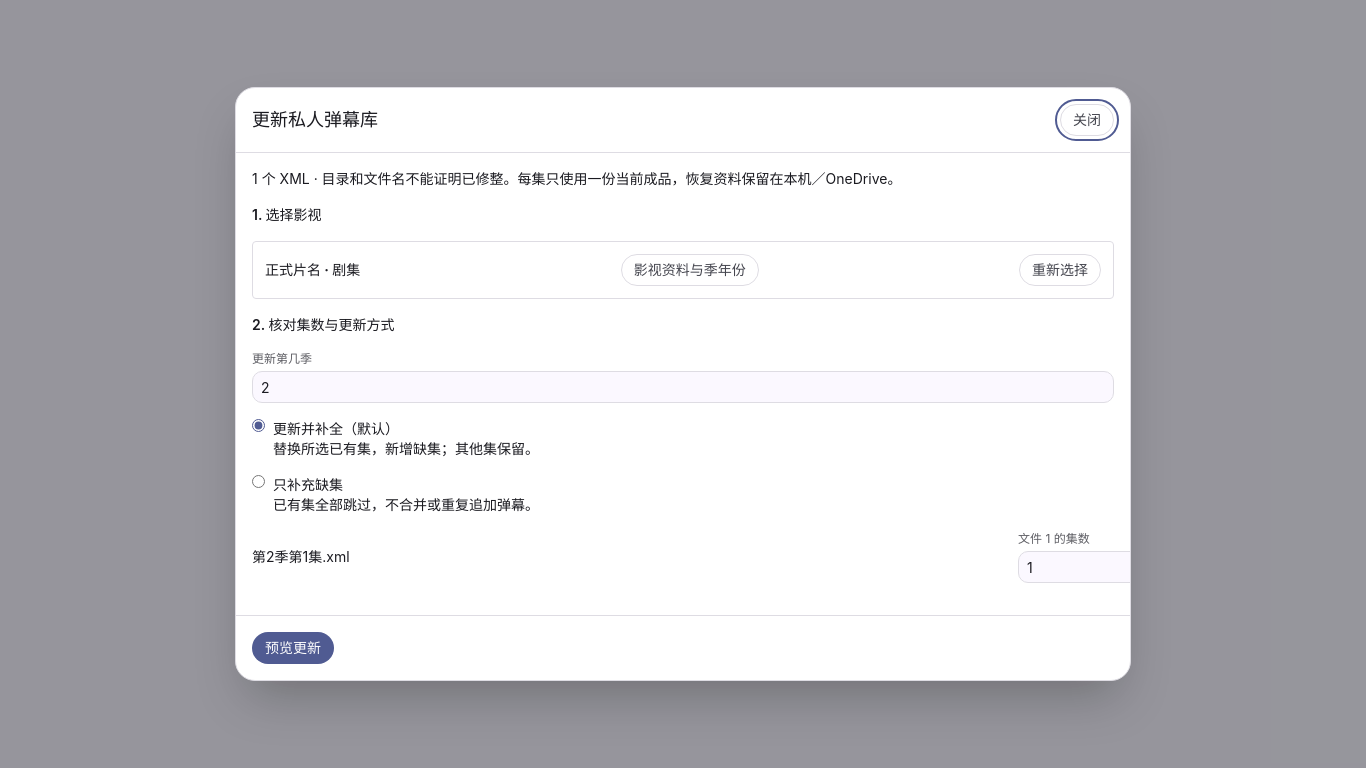
only-add mode does not overwrite or approve an existing unchecked episode
Expected: the button "预览更新" is enabled, [252,632,334,664]
Click the radio button labelled "只补充缺集" at (258, 482), box [252,475,265,488]
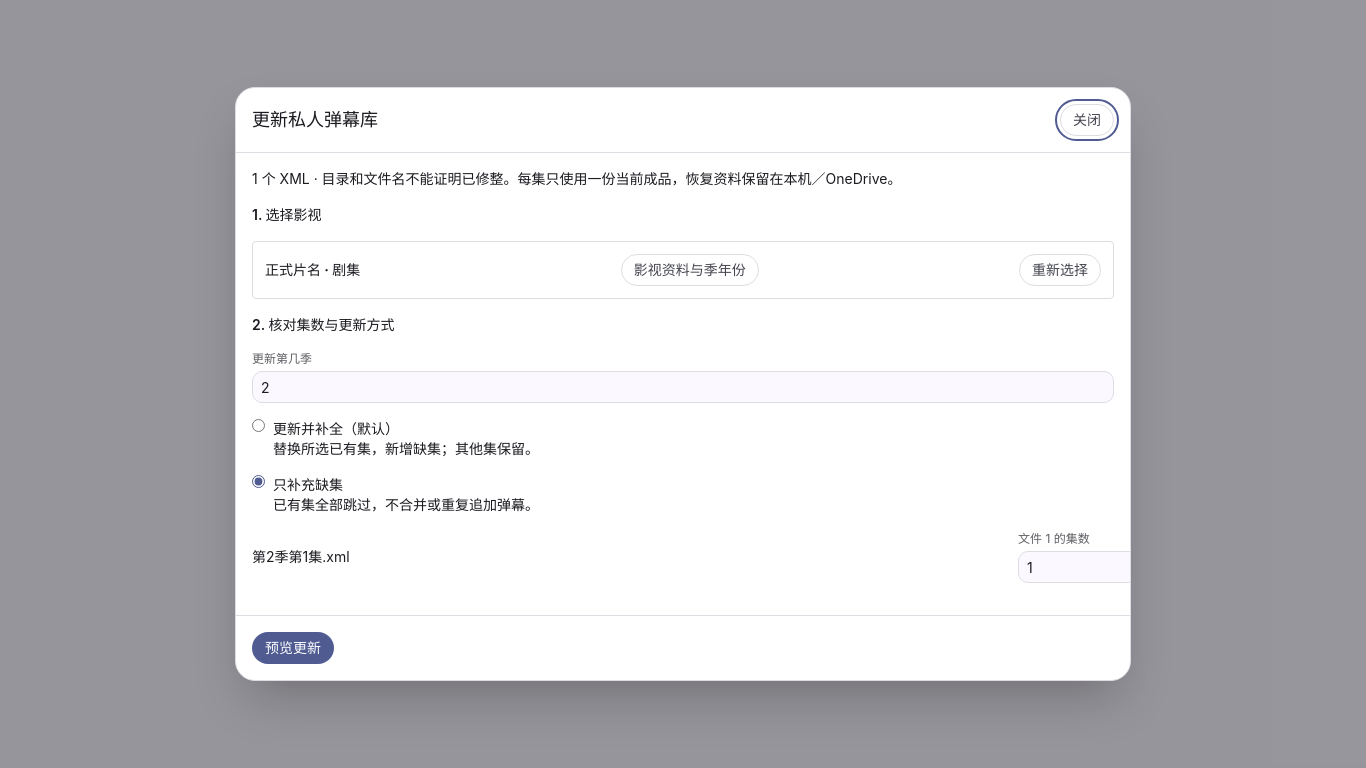
Click the button "预览更新" at (293, 648), box [252,632,334,664]
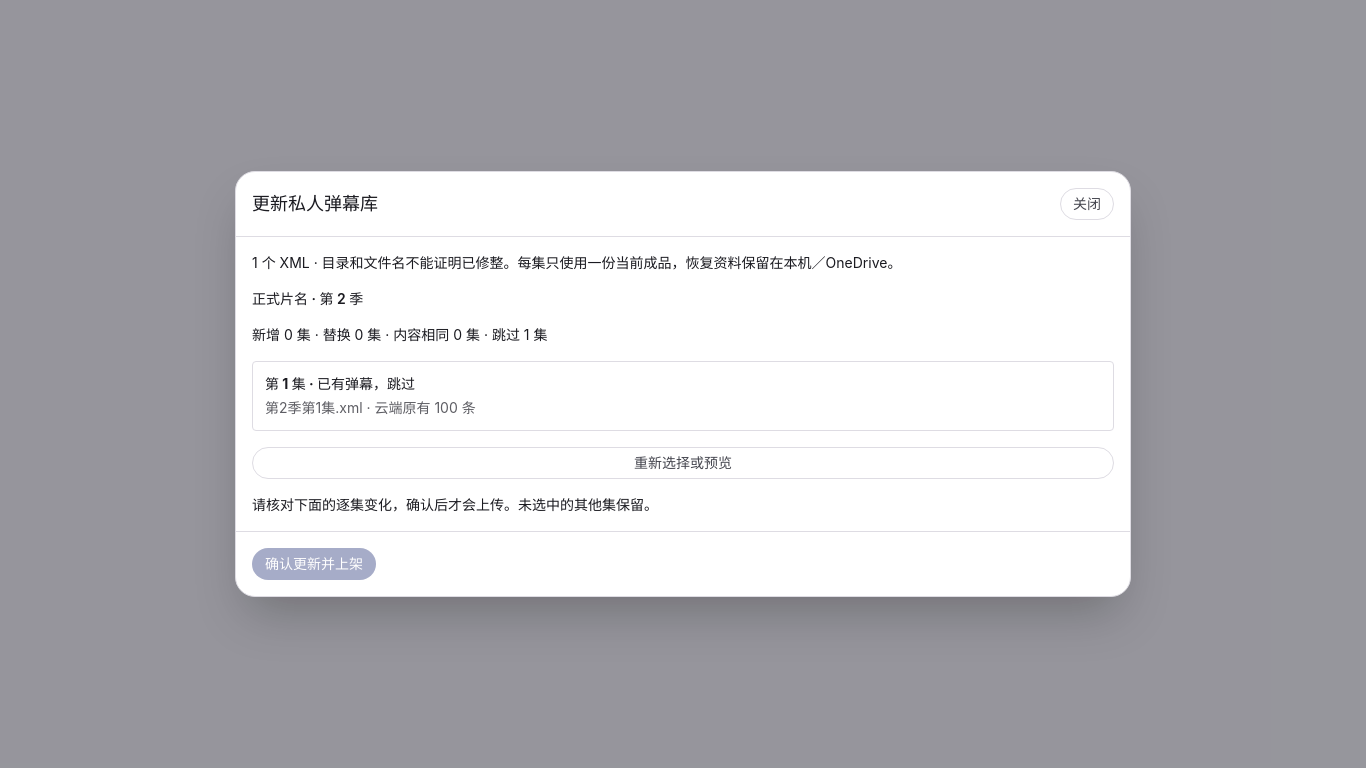
Expected: the text "第 1 集 · 已有弹幕，跳过" is shown, [265,375,415,392]
Expected: the button "确认更新并上架" is disabled, [252,548,376,580]
